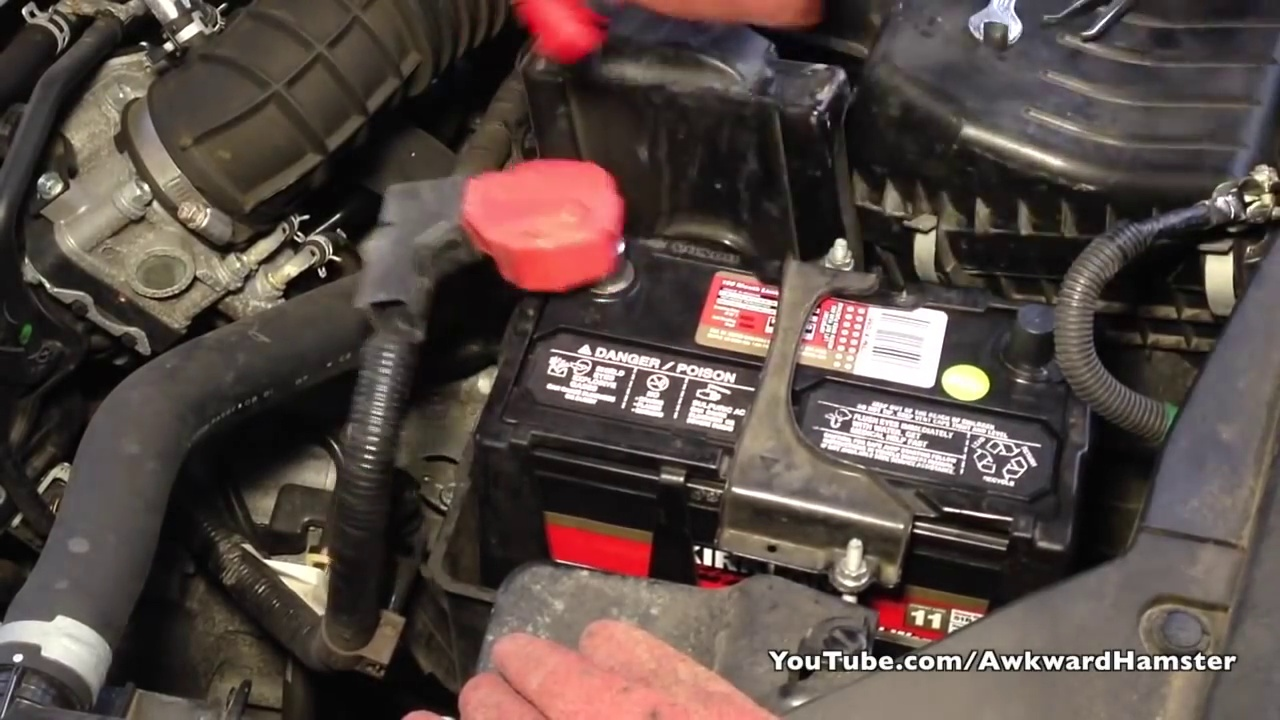battery: (486, 226, 1065, 543)
pos_connected: (454, 161, 645, 308)
